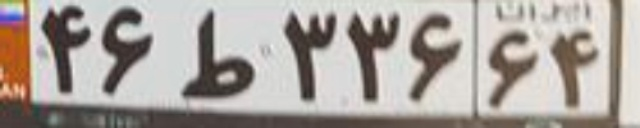3: (281, 10, 338, 100), (346, 11, 399, 99)
4: (40, 5, 93, 92), (551, 29, 604, 107)
6: (408, 11, 466, 102), (97, 5, 154, 93), (482, 28, 539, 108)
taa: (178, 8, 257, 98)
